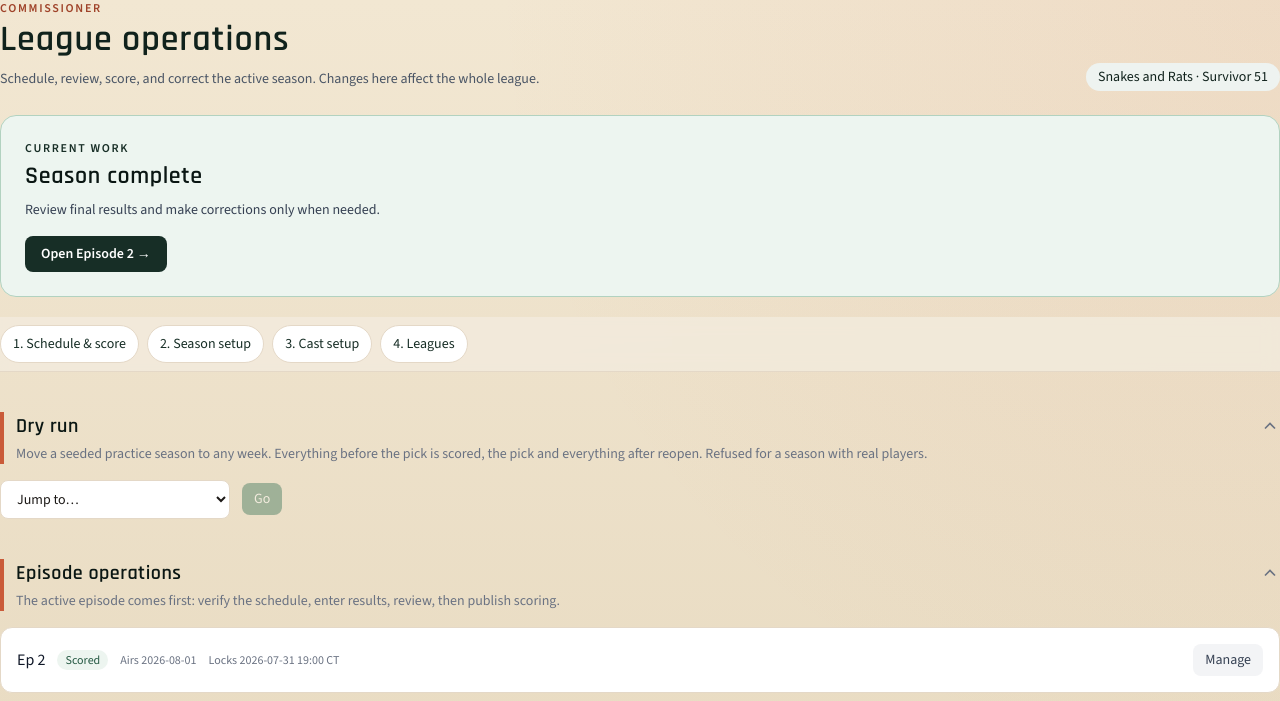
Test: AdminPage current rules › lets the commissioner curate up to four scored-episode insights
Click the button "Manage": (1228, 660) [1193,644,1263,676]
(page scrolled)
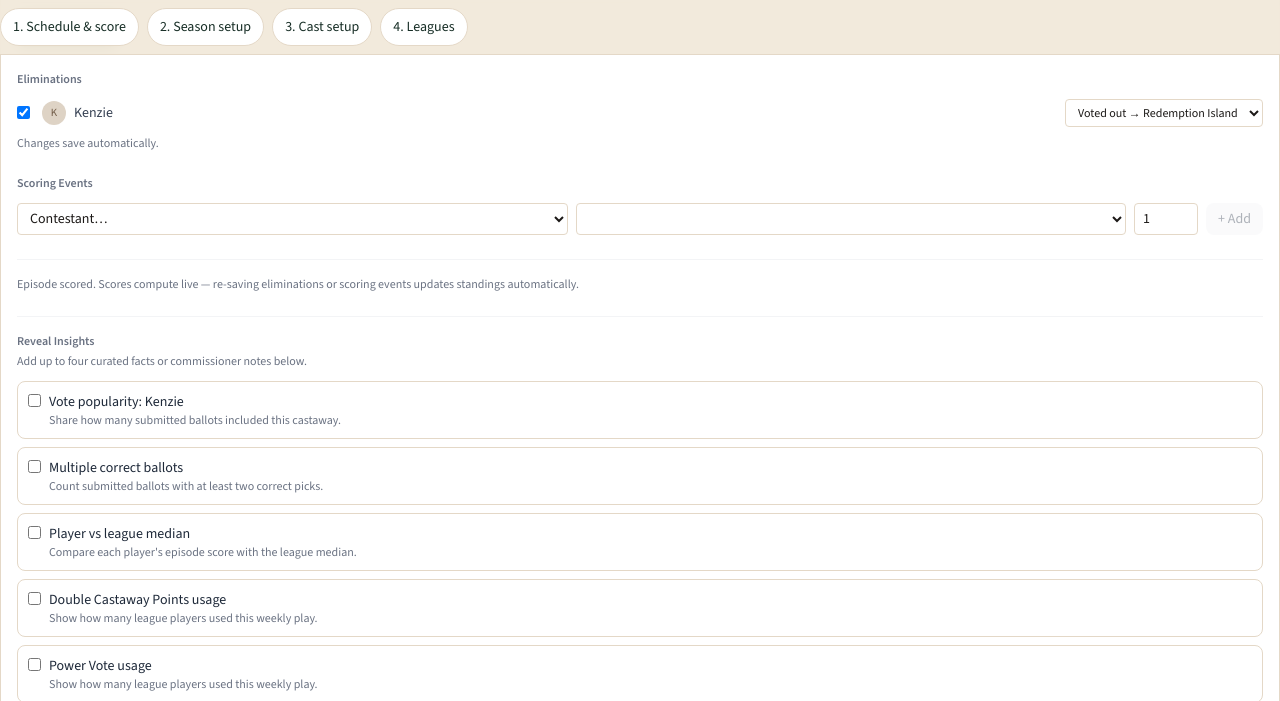
Check: the text "Reveal Insights" is shown, box [17,333,94,349]
Click the checkbox labelled "Vote popularity: Kenzie": (34, 400) [28,394,41,407]
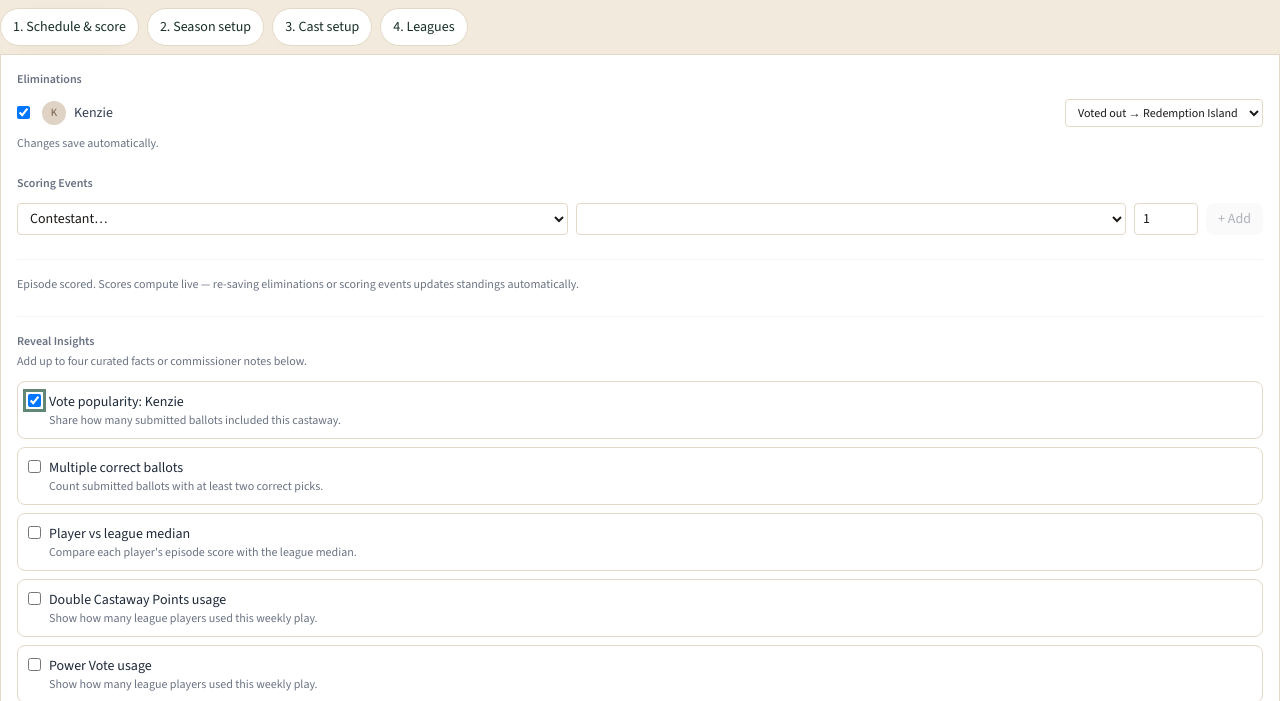
Click the checkbox labelled "Player vs league median": (34, 532) [28,526,41,539]
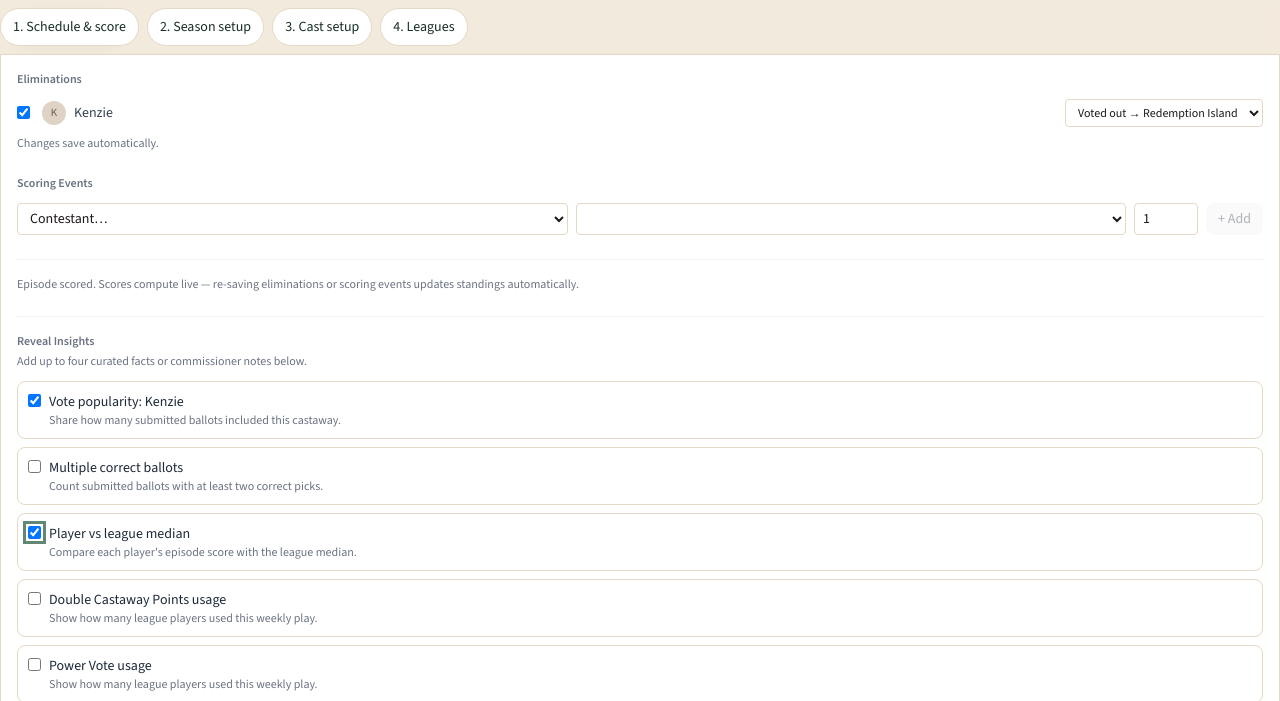
Click the checkbox labelled "Power Vote usage": (34, 664) [28,658,41,671]
(page scrolled)
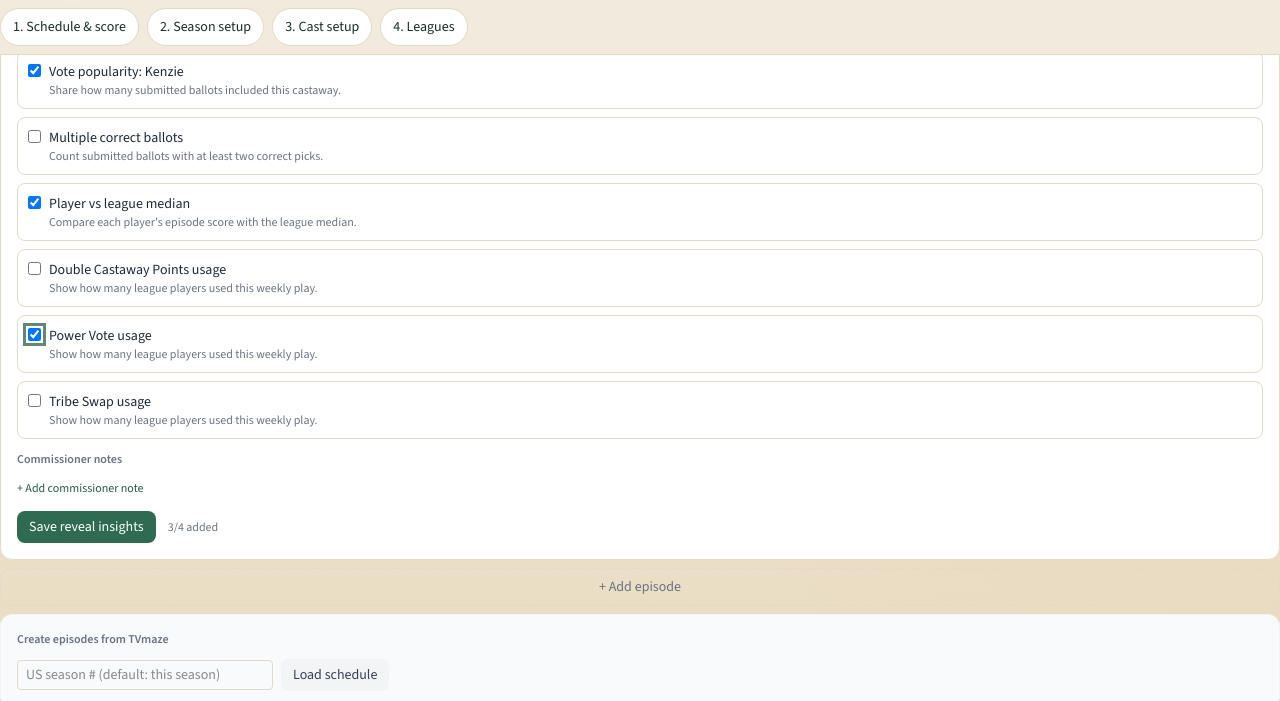
Click the checkbox labelled "Tribe Swap usage": (34, 400) [28,394,41,407]
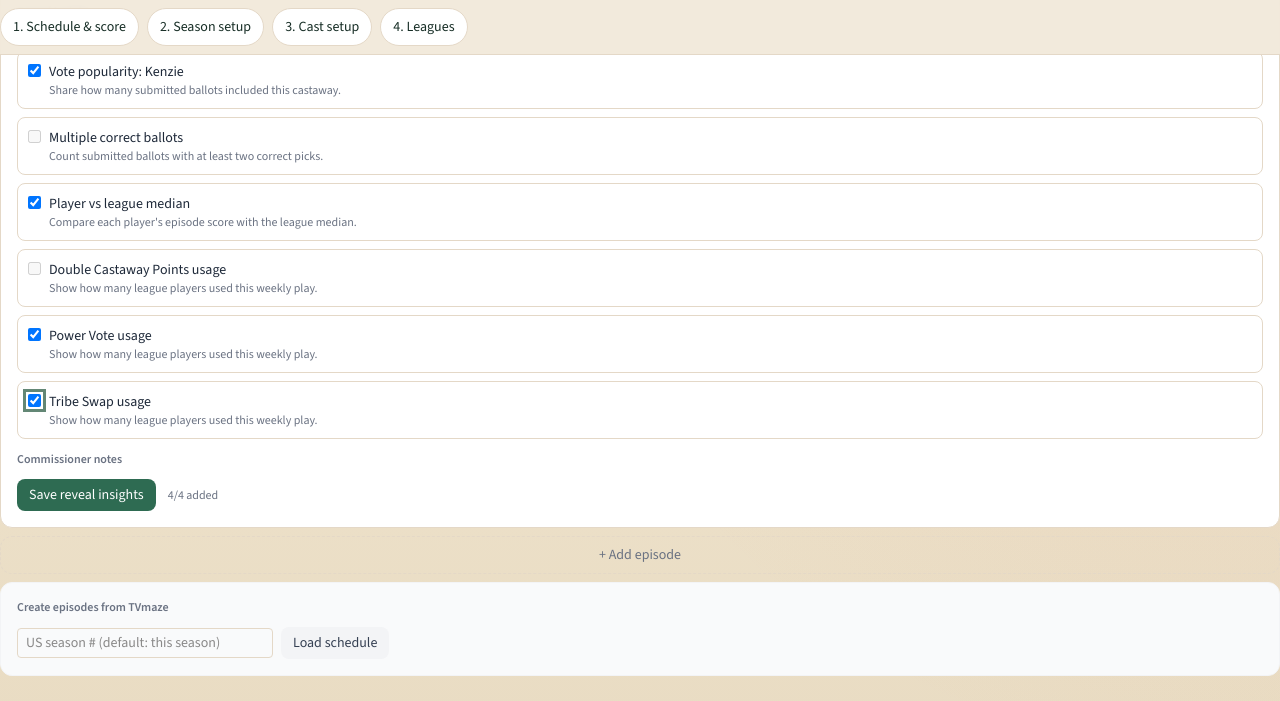
Check: the text "4/4 added" is shown, box [168,487,218,503]
Check: the checkbox labelled "Double Castaway Points usage" is disabled, box [28,262,41,275]
Click the button "Save reveal insights": (86, 495) [17,479,156,511]
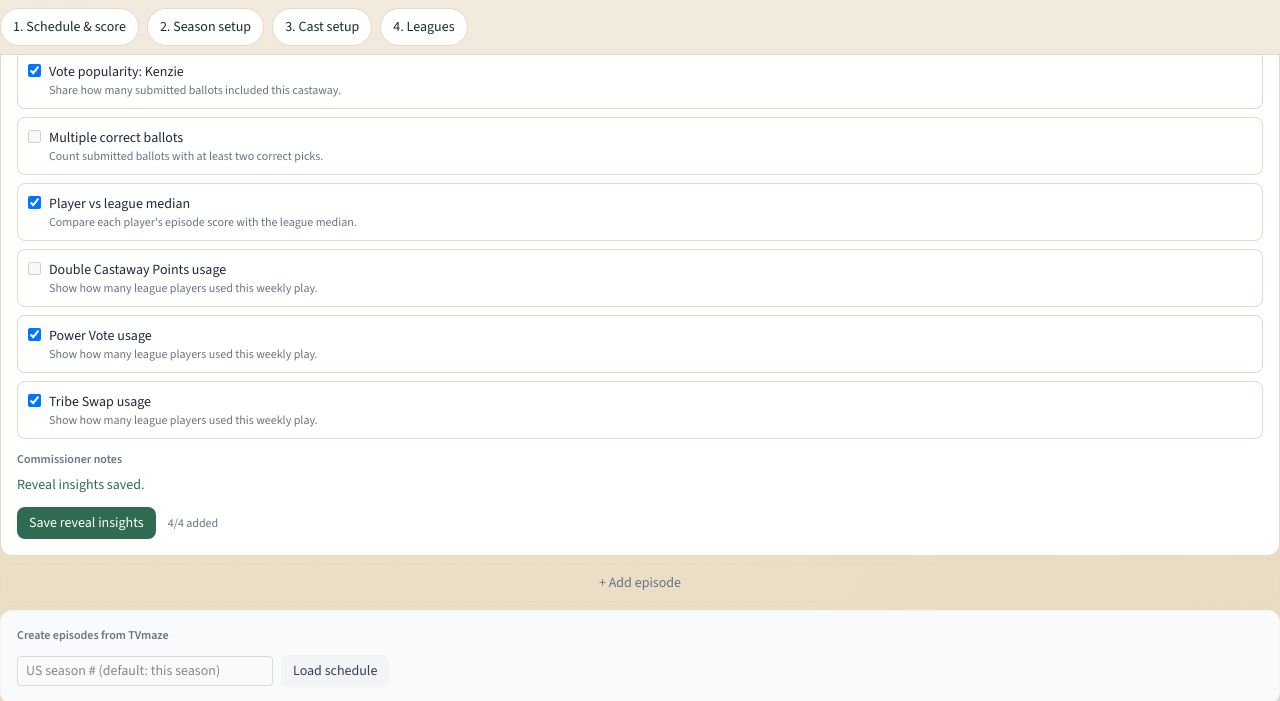
Check: the text "Reveal insights saved." is shown, box [17,475,144,494]
